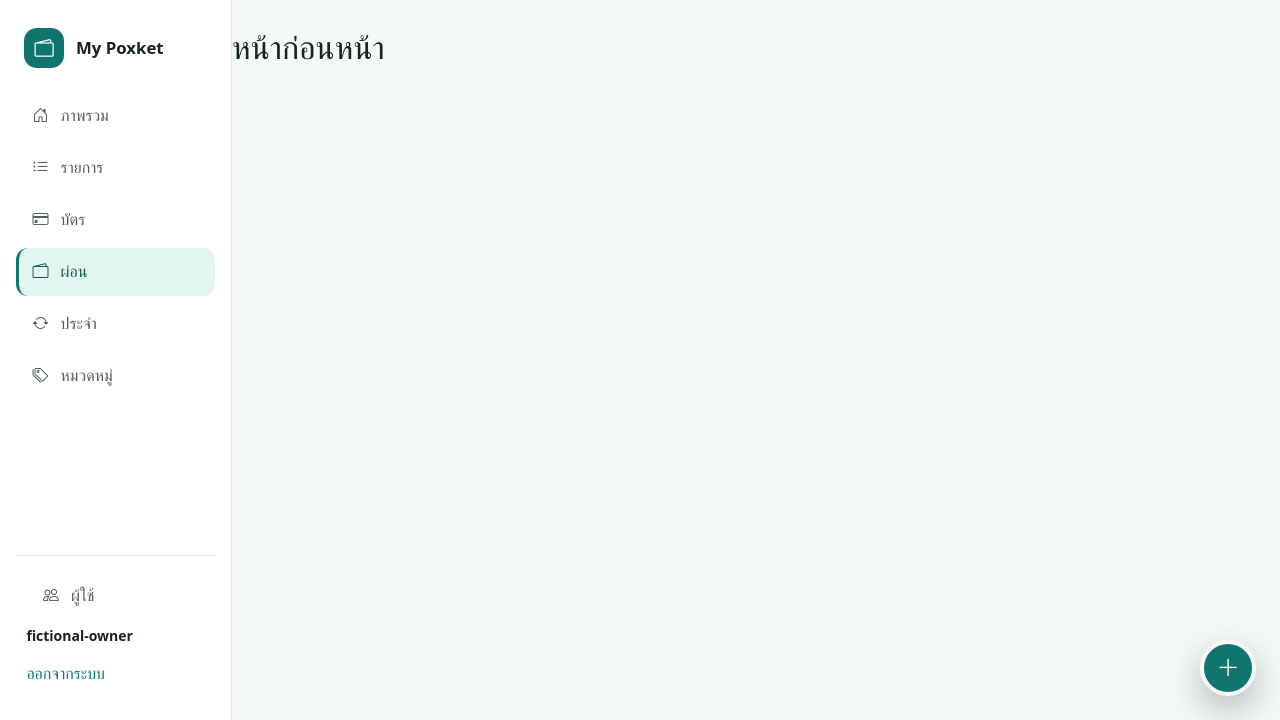
Test: finance pages › /installments: save via เพิ่มรายการด่วน
Click the link named "เพิ่มรายการด่วน" at [1228, 668], box [1200,640,1256,696]
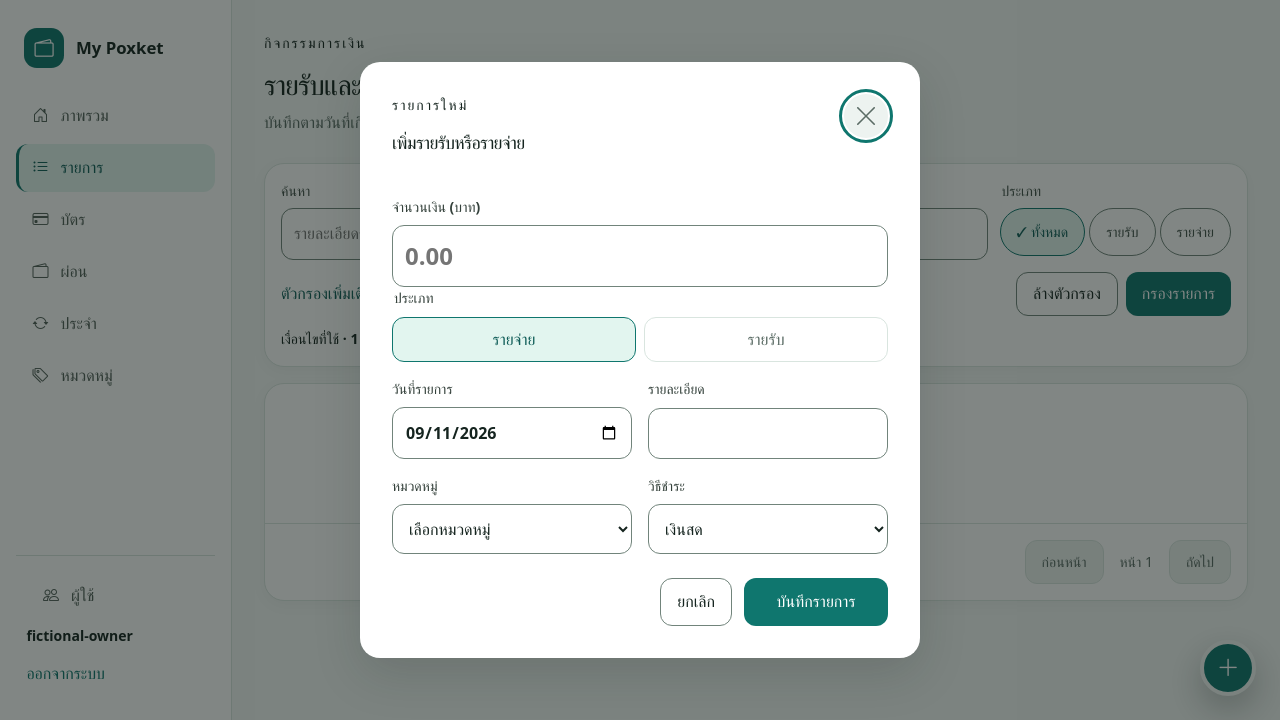
Type "100" into the field labelled "จำนวนเงิน (บาท)" at [640, 256], box [392,225,888,287]
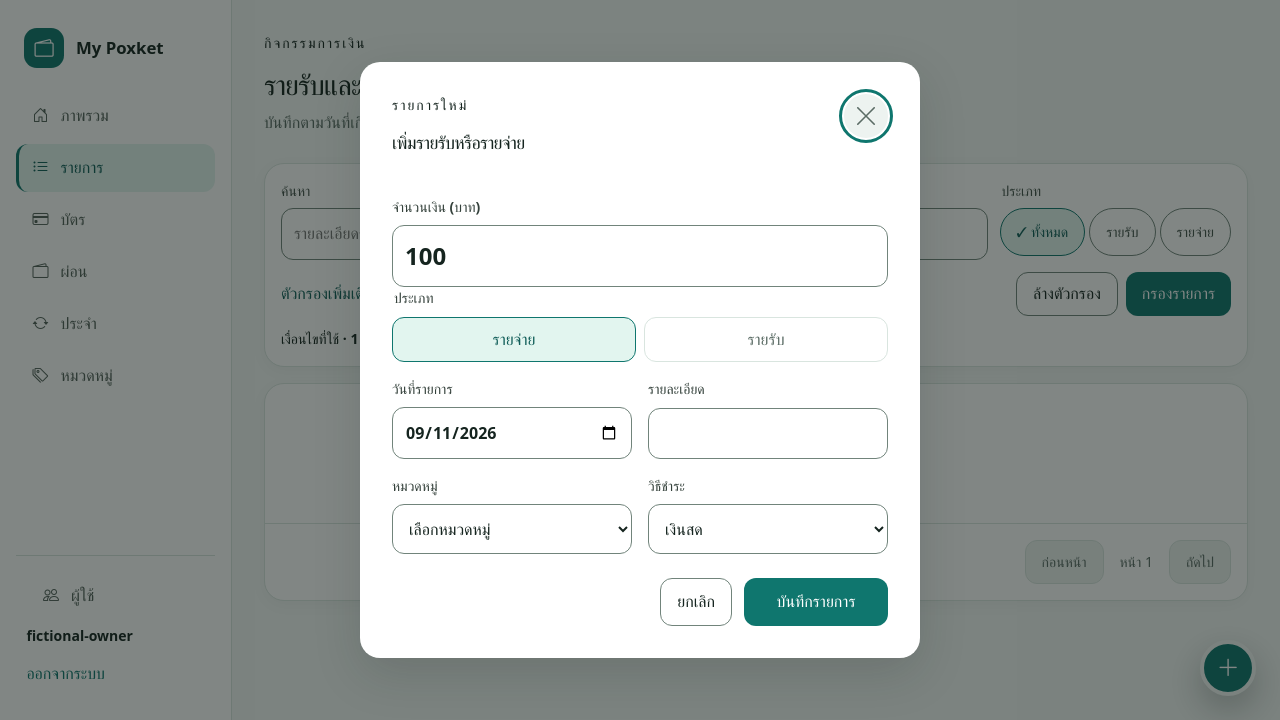
Type "รายการสมมติ" into the field labelled "รายละเอียด" at [768, 433], box [648,408,888,459]
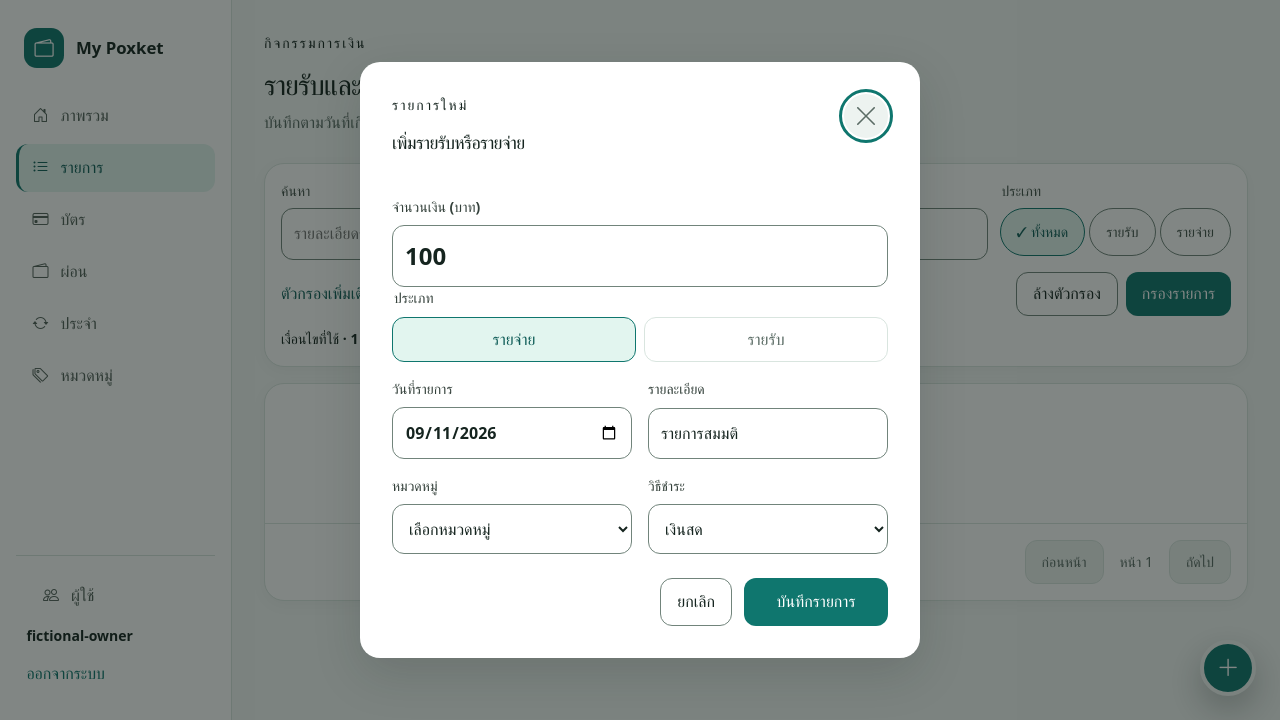
Select "อาหารสมมติ" in the dropdown labelled "หมวดหมู่" at [512, 529], box [392,504,632,554]
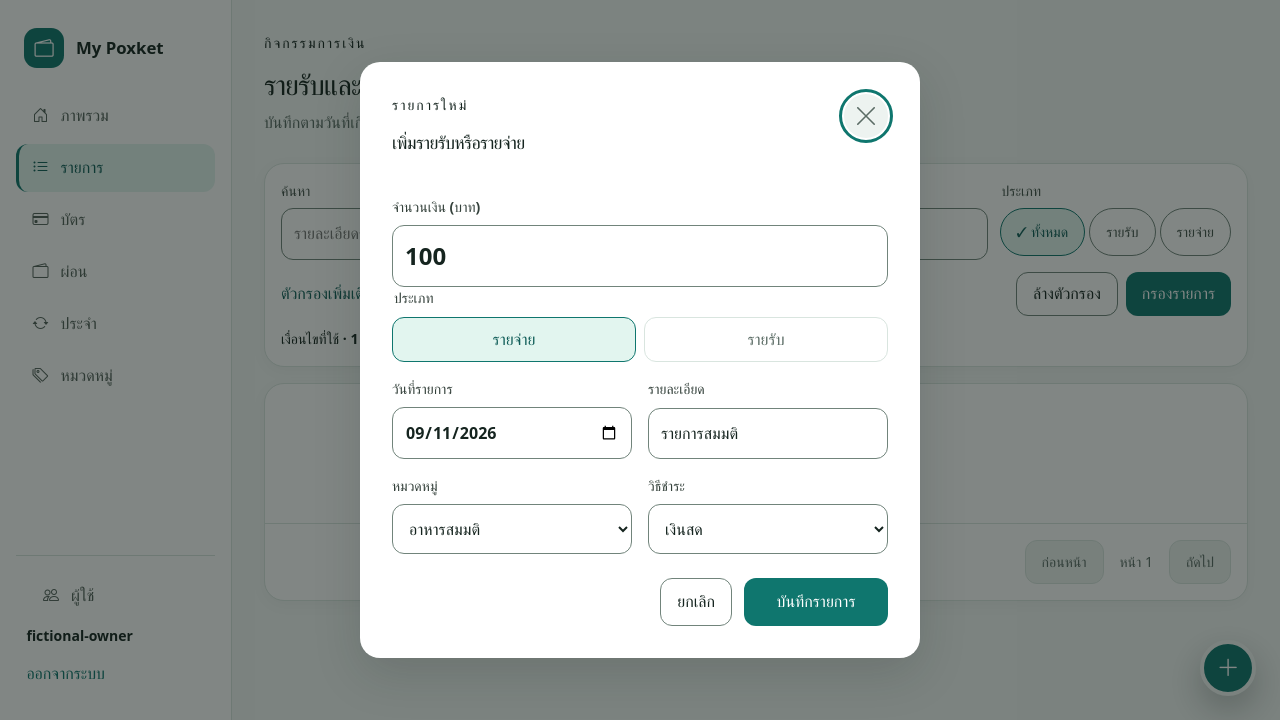
Click the button "บันทึกรายการ" at [816, 602], box [744,578,888,626]
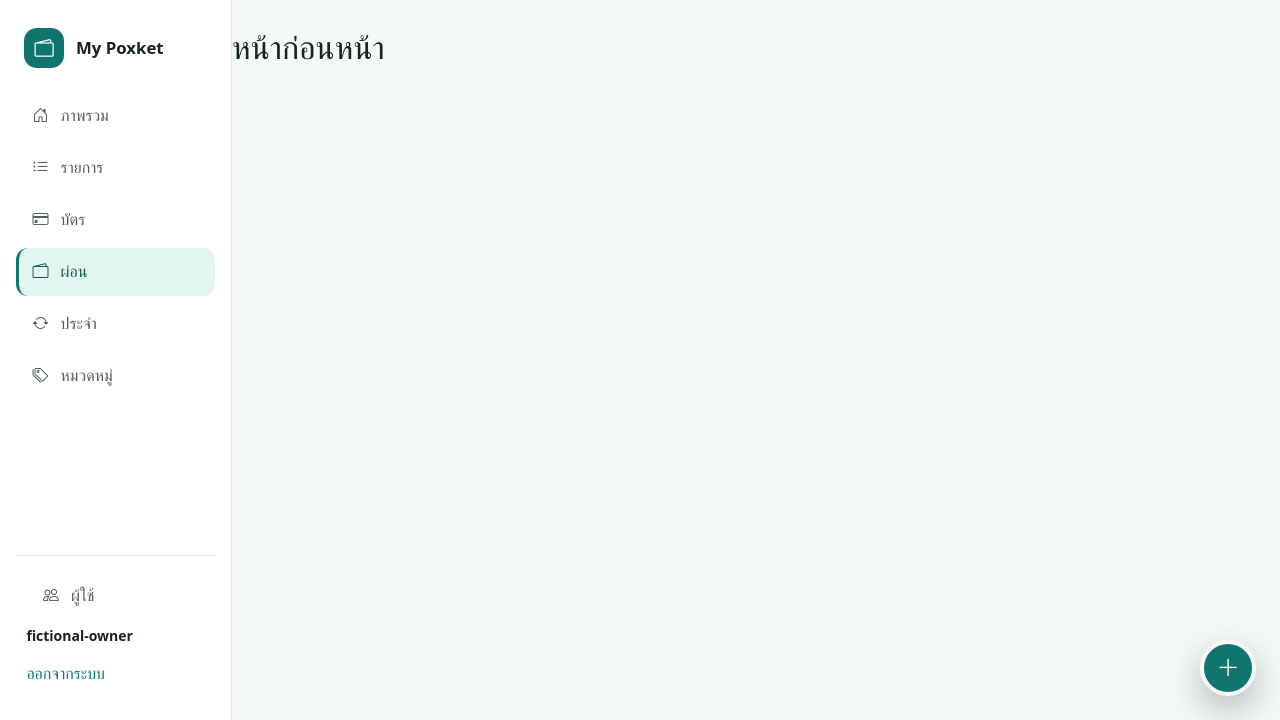
Check: the dialog is gone
